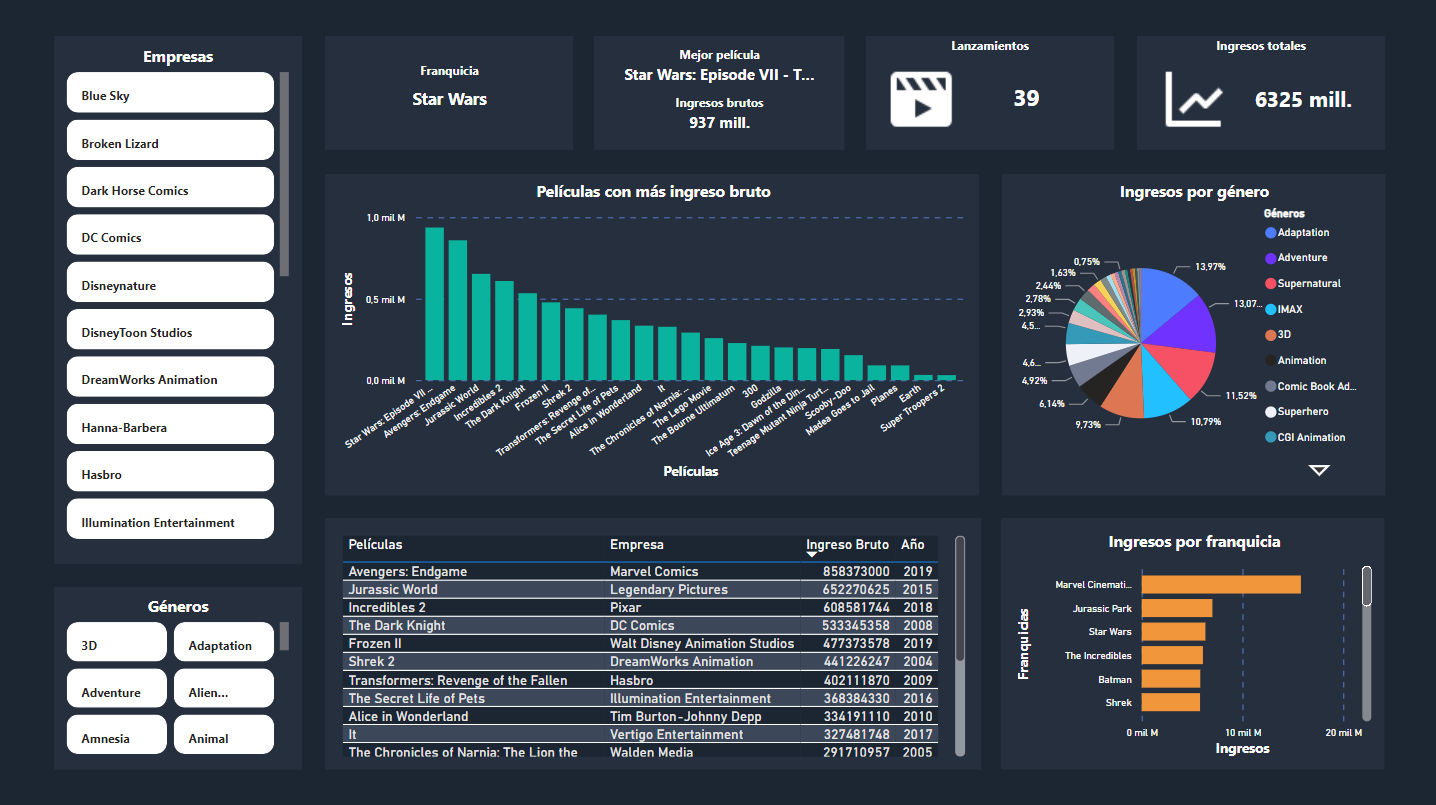

Layout of this report page (visuals, bound fields, positions):
{"tool":"powerbi","page":{"name":"Dashboard","canvas":[1280,720],"ordinal":0},"visuals":[{"type":"basicShape","box":[49.7,34.6,219.9,468.2],"z":0},{"type":"basicShape","box":[49.7,523.2,219.9,162.3],"z":1000},{"type":"basicShape","box":[290,34.6,219.9,101.1],"z":2000},{"type":"basicShape","box":[290,156.9,579.9,284.6],"z":3000},{"type":"basicShape","box":[528.5,34.6,221.7,101.1],"z":4000},{"type":"basicShape","title":"Lanzamientos","box":[769.7,34.6,219.9,101.1],"z":5000},{"type":"basicShape","title":"Ingresos totales","box":[1010,34.6,219.9,101.1],"z":6000},{"type":"basicShape","box":[890.2,156.9,339.6,284.6],"z":7000},{"type":"basicShape","box":[290,462,581.7,223.4],"z":8000},{"type":"basicShape","box":[889.4,462,340.5,223.4],"z":9000},{"type":"card","title":"Franquicia","fields":{"Values":["boxofficeMojoTable.FranchiseMaxGross"]},"box":[310.3,56.7,180,56.7],"z":10000},{"type":"card","title":"Ingresos brutos","fields":{"Values":["boxofficeMojoTable.MaxLifetimeGross"]},"box":[549.8,85.1,180,42.6],"z":11000},{"type":"card","fields":{"Values":["boxofficeMojoTable.TotalMaxGross"]},"box":[1108,64,98,56],"z":12000},{"type":"advancedSlicerVisual","title":"Empresas","fields":{"Values":["boxofficeMojoTable.Brand"]},"box":[55.9,42.6,207.5,452.2],"z":13000},{"type":"card","title":"Mejor película","fields":{"Values":["boxofficeMojoTable.ReleaseMaxGross"]},"box":[549.8,42.6,180,42.6],"z":14000},{"type":"clusteredColumnChart","title":"Películas con más ingreso bruto","fields":{"Y":["boxofficeMojoTable.Lifetime Gross"],"Category":["boxofficeMojoTable.#1 Release"]},"box":[299.7,162.3,563.1,270.4],"z":15000},{"type":"pieChart","title":"Ingresos por género","fields":{"Category":["boxofficeNewMojoGenres.Genre"],"Y":["boxofficeNewMojoGenres.Total"]},"box":[899.1,162.3,323.6,270.4],"z":16000},{"type":"tableEx","title":"Titulos","fields":{"Values":["boxofficeMojoTable.#1 Release","boxofficeMojoTable.Brand","boxofficeMojoTable.Lifetime Gross","boxofficeNewMojoTopInternational.Year"]},"box":[299.7,472.6,563.1,205.7],"z":17000},{"type":"clusteredBarChart","title":"Ingresos por franquicia","fields":{"Category":["boxofficeMojoTable.Franchise"],"Y":["boxofficeMojoTable.Total"]},"box":[899.1,472.6,323.6,205.7],"z":18000},{"type":"card","fields":{"Values":["boxofficeMojoTable.ReleasesMaxGross"]},"box":[863,63,98,56],"z":19000},{"type":"advancedSlicerVisual","title":"Géneros","fields":{"Values":["boxofficeNewMojoGenres.Genre"]},"box":[55.9,530.2,207.5,147.2],"z":20000},{"type":"image","box":[781,53,75,75],"z":20001},{"type":"image","box":[1022,53,75,75],"z":20002}]}

Visuals, with their boxes in screenshot pixels (x1, y1, x2, y2), scaled from the page's 1280x720 canvas onto the 1436x805 screenshot:
basicShape: detection(56, 39, 302, 562)
basicShape: detection(56, 585, 302, 766)
basicShape: detection(325, 39, 572, 152)
basicShape: detection(325, 175, 976, 494)
basicShape: detection(593, 39, 842, 152)
"Lanzamientos" basicShape: detection(864, 39, 1110, 152)
"Ingresos totales" basicShape: detection(1133, 39, 1380, 152)
basicShape: detection(999, 175, 1380, 494)
basicShape: detection(325, 517, 978, 766)
basicShape: detection(998, 517, 1380, 766)
"Franquicia" card: detection(348, 63, 550, 127)
"Ingresos brutos" card: detection(617, 95, 819, 143)
card - boxofficeMojoTable.TotalMaxGross: detection(1243, 72, 1353, 134)
"Empresas" advancedSlicerVisual: detection(63, 48, 296, 553)
"Mejor película" card: detection(617, 48, 819, 95)
"Películas con más ingreso bruto" clusteredColumnChart: detection(336, 181, 968, 484)
"Ingresos por género" pieChart: detection(1009, 181, 1372, 484)
"Titulos" tableEx: detection(336, 528, 968, 758)
"Ingresos por franquicia" clusteredBarChart: detection(1009, 528, 1372, 758)
card - boxofficeMojoTable.ReleasesMaxGross: detection(968, 70, 1078, 133)
"Géneros" advancedSlicerVisual: detection(63, 593, 296, 757)
image: detection(876, 59, 960, 143)
image: detection(1147, 59, 1231, 143)
